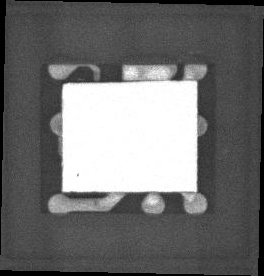DIE_INK: (75, 171, 81, 177)
